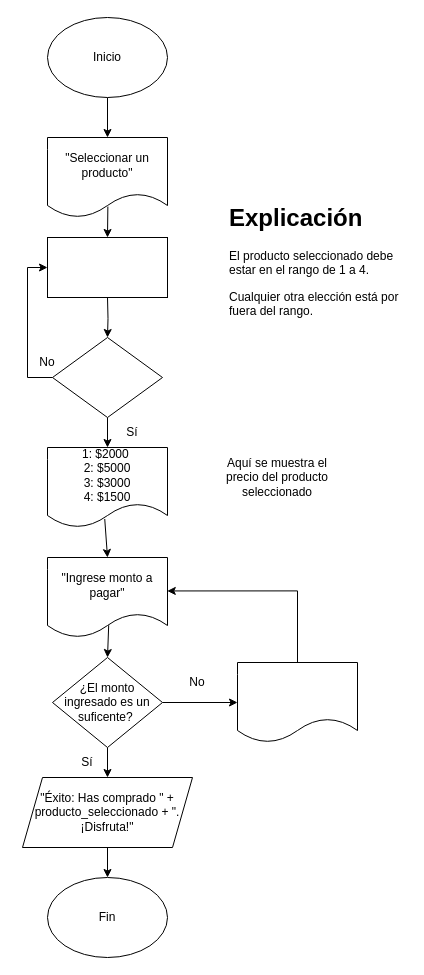
This 424x975 diagram has some shape labels left out. Here are the shapes that lost their labels. From the top down, the box of each, then its label:
(46, 236, 168, 298): 1=Galletas: $2000 2=Gaseosas: $5000 3=Papas: $3000 4=Chocolates: $1500
(52, 336, 162, 418): 1 >= x < 5
(236, 662, 358, 742): "Error: Por favor, ingresa un monto válido."
